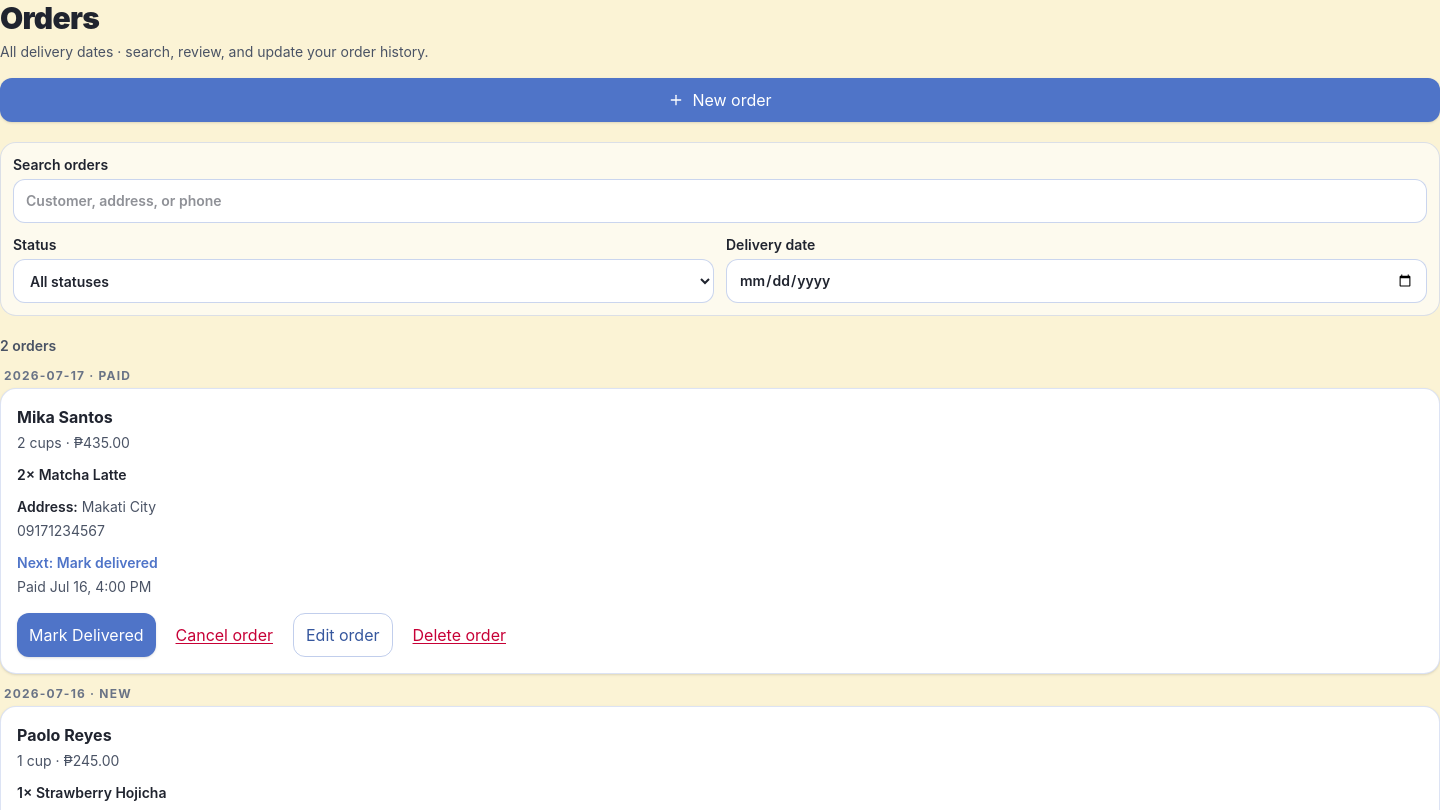
Test: OrdersHistory › searches order history and filters by status and delivery date
expect the heading "Mika Santos" is shown: met, box [17,407,113,427]
In the field labelled "Search orders": (720, 201) [13,179,1427,223], type "Paolo"
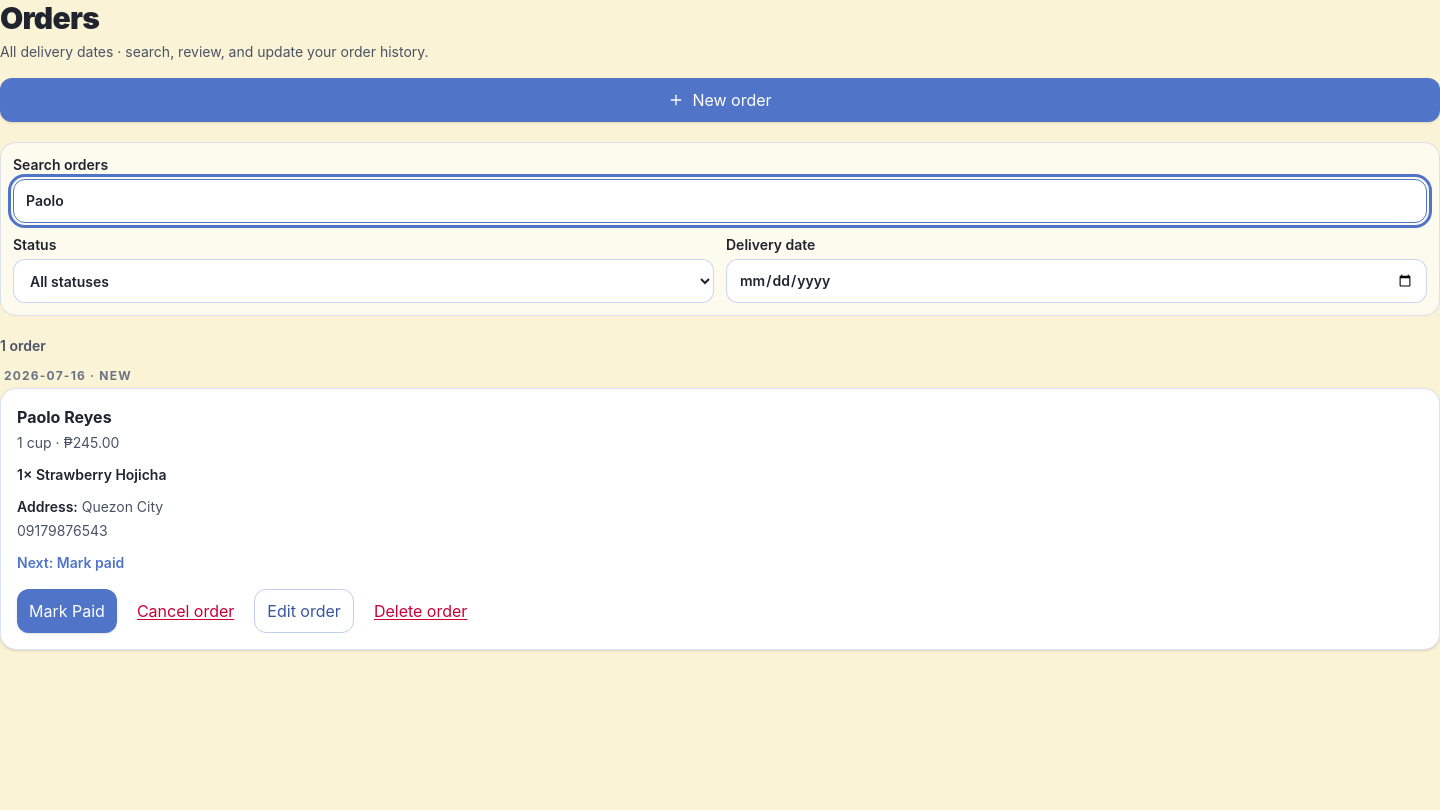
expect the heading "Paolo Reyes" is shown: met, box [17,405,119,429]
expect the heading "Mika Santos" is gone: met
Clear the field labelled "Search orders": (720, 201) [13,179,1427,223]
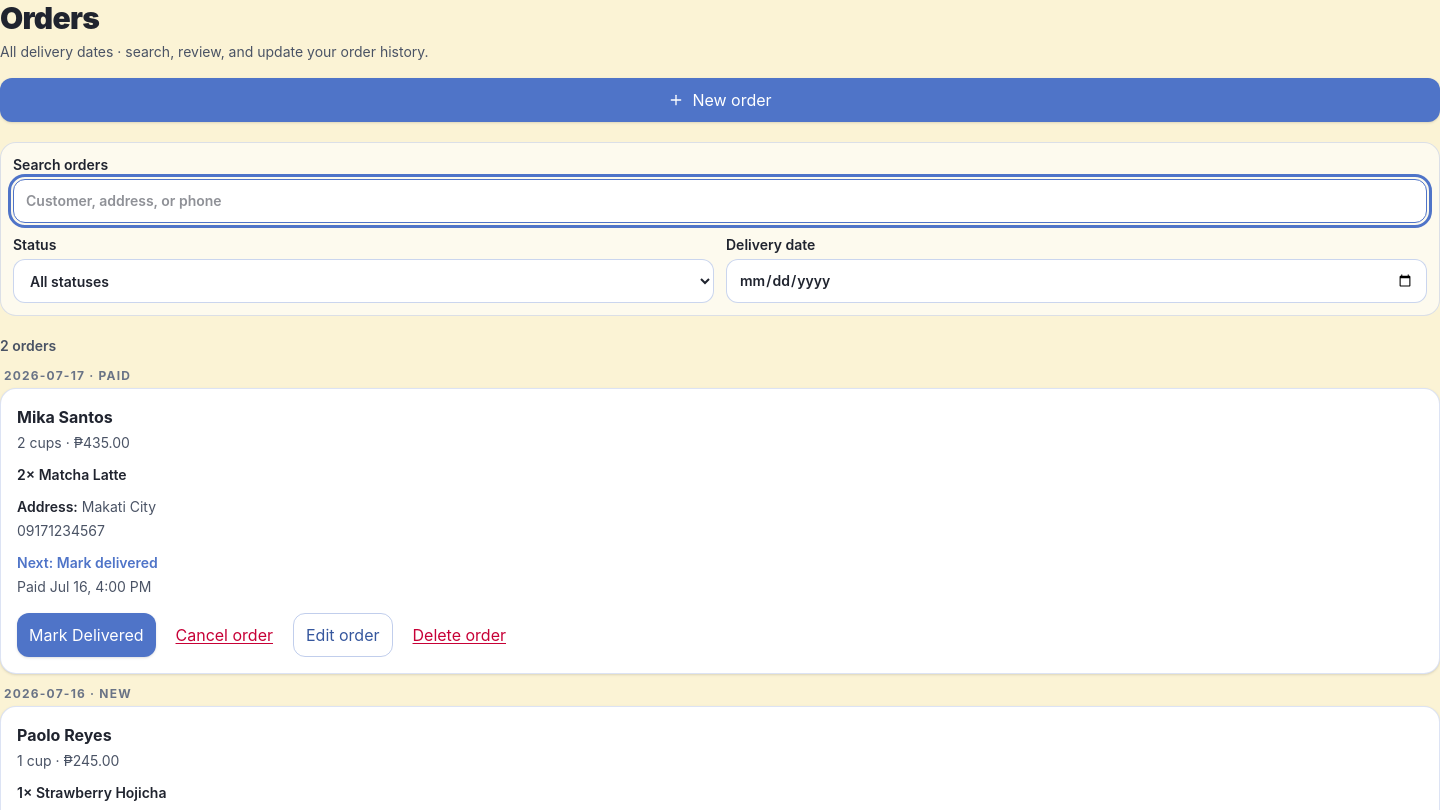
Select "Paid" in the dropdown named "Status filter": (364, 281) [13,259,714,303]
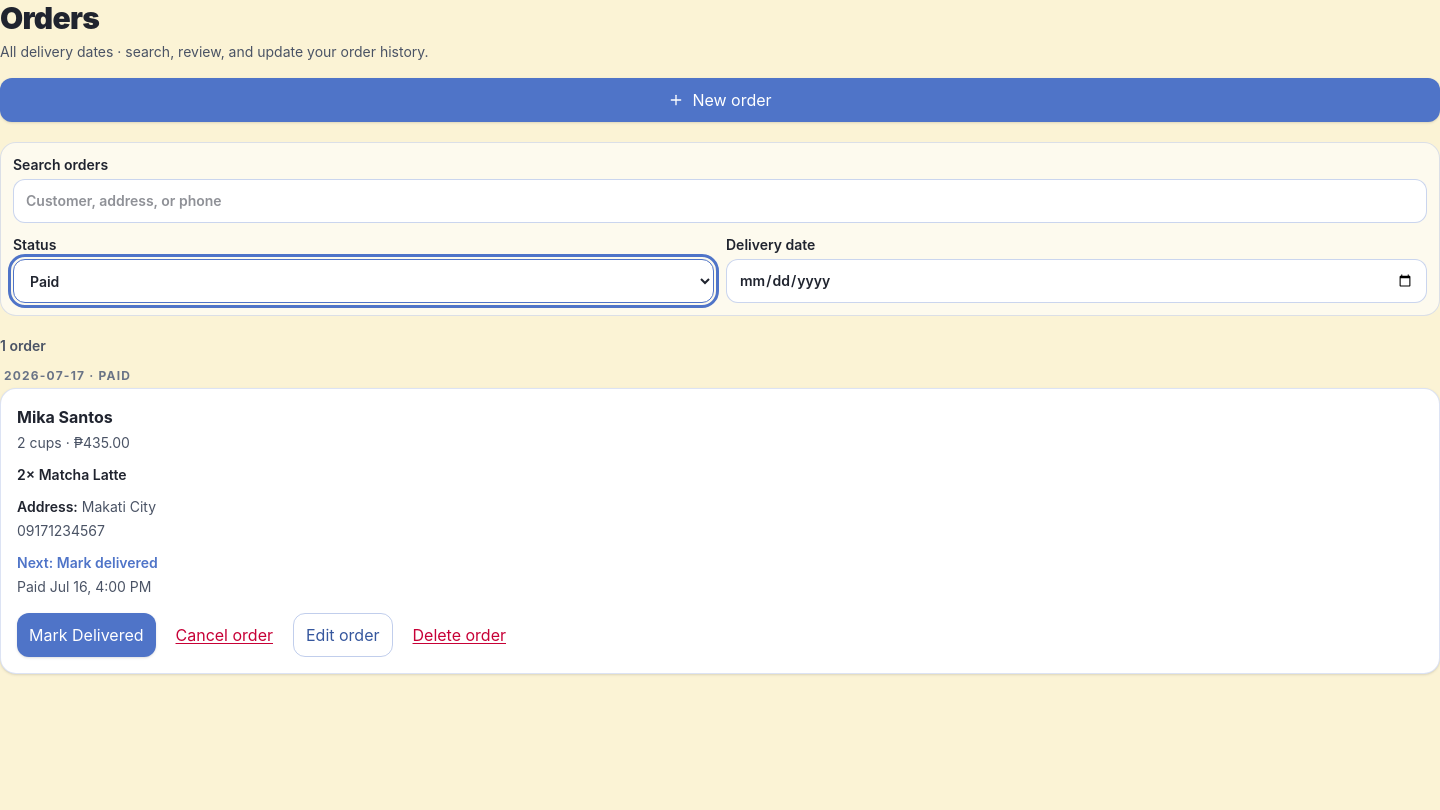
expect the heading "Mika Santos" is shown: met, box [17,407,113,427]
expect the heading "Paolo Reyes" is gone: met
Select "All statuses" in the dropdown named "Status filter": (364, 281) [13,259,714,303]
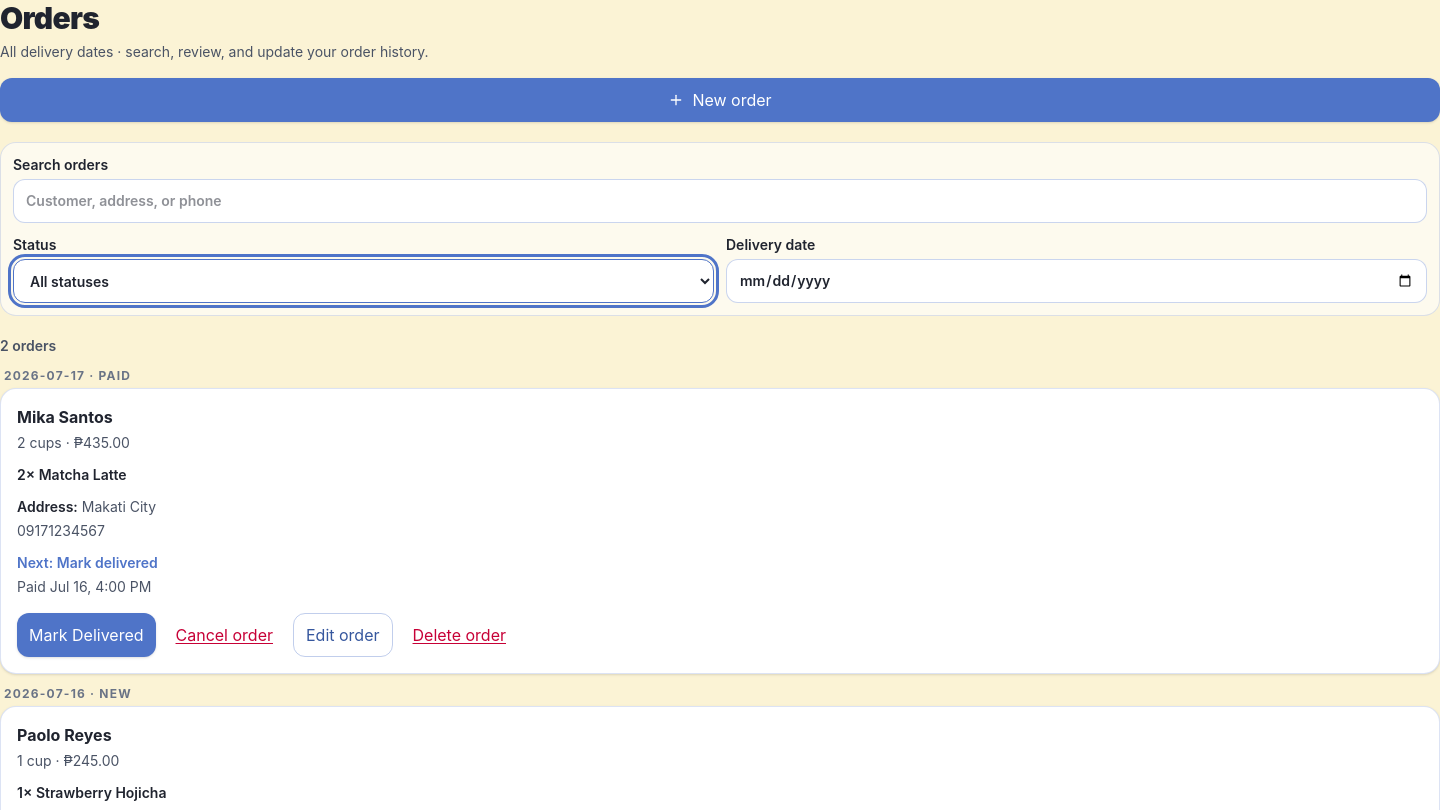
In the date field named "Delivery date filter": (1076, 281) [726,259,1427,303], type "2026-07-17"
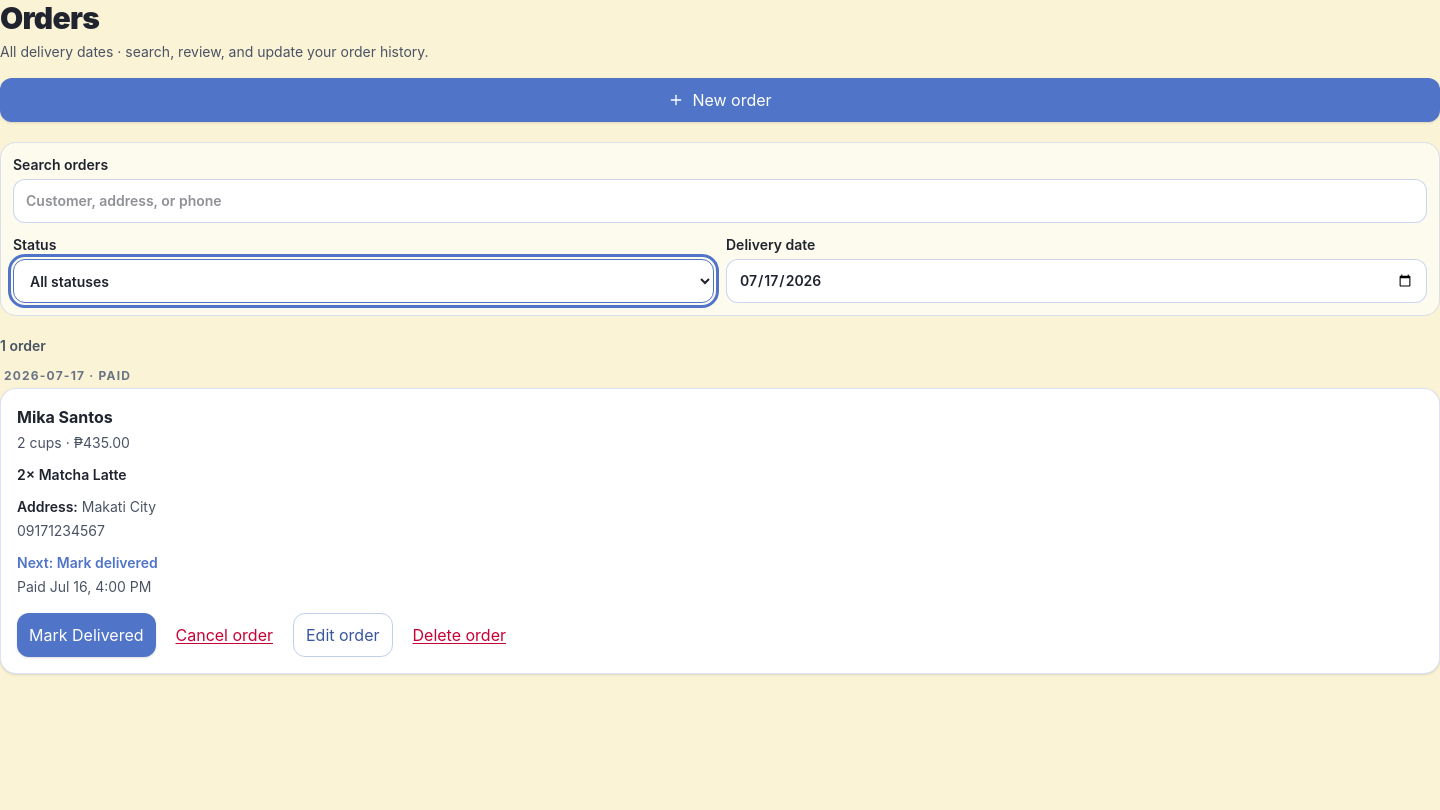
expect the heading "Mika Santos" is shown: met, box [17,407,113,427]
expect the heading "Paolo Reyes" is gone: met
